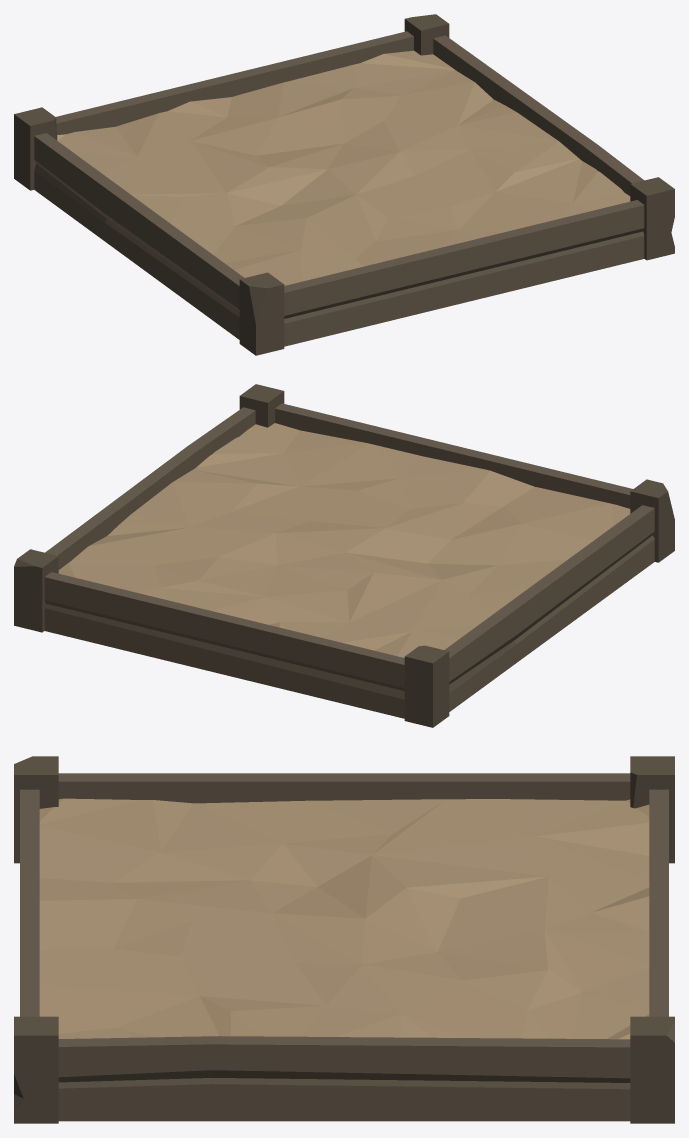
File: SM_Props_City_PlayGround_Equipment_SandPool.fbx
3 views of the same model, one above another, from view 1: azimuth 30°, elevation 25°; view 2: azimuth 150°, elevation 25°; view 3: azimuth 270°, elevation 25° (orthographic). The views are drawn at different scales.
Parts seen in each view (by area): view 1: SM_Props_City_PlayGround_Equipment_SandPool; view 2: SM_Props_City_PlayGround_Equipment_SandPool; view 3: SM_Props_City_PlayGround_Equipment_SandPool.
Part boxes in pixels (<box>): SM_Props_City_PlayGround_Equipment_SandPool: <box>14,14,674,355</box>; SM_Props_City_PlayGround_Equipment_SandPool: <box>14,384,674,727</box>; SM_Props_City_PlayGround_Equipment_SandPool: <box>14,756,674,1123</box>.
Bounding box in the file's own units: 408 × 60 × 408.
